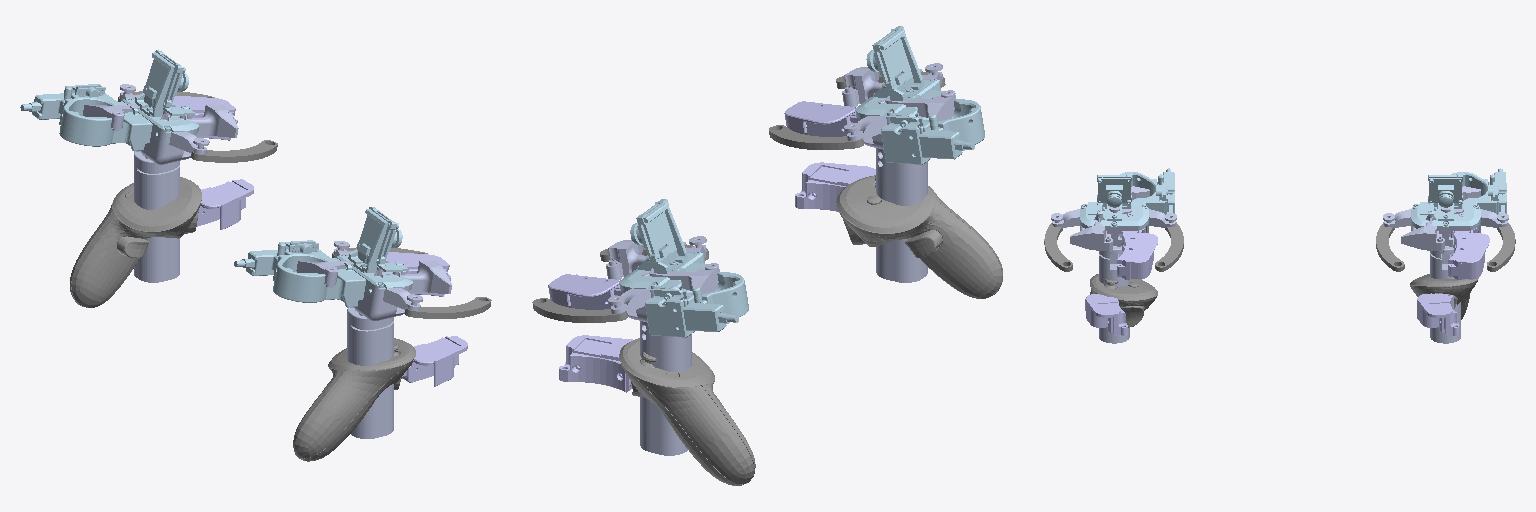
robot.urdf — yubi_hands:
<?xml version="1.0" encoding="utf-8"?>
<!-- Generated by tools/compose_yubi_urdf.py from the two assets/yubi_description/source/*.urdf CAD exports. -->
<robot name="yubi_hands">
  <link name="quest_origin" />
  <link name="left_hand_root">
    <visual>
      <origin xyz="0 0 0" rpy="0 0 0" />
      <geometry>
        <mesh filename="package://yubi_description/meshes/shared/link_base_link.stl" />
      </geometry>
      <material name="left_link_base_link_material">
        <color rgba="0.792157 0.819608 0.933333 1" />
      </material>
    </visual>
    <collision>
      <origin xyz="0 0 0" rpy="0 0 0" />
      <geometry>
        <mesh filename="package://yubi_description/meshes/shared/link_base_link.stl" />
      </geometry>
    </collision>
  </link>
  <joint name="left_world_to_base_link" type="fixed">
    <origin xyz="0.014368 0 0.05331" rpy="-0 0.174533 -0" />
    <parent link="left_hand_root" />
    <child link="left_base_link" />
  </joint>
  <link name="left_base_link">
    <visual>
      <origin xyz="-0.00489182287976 -9.2877811532e-05 -0.0550079925692" rpy="-4.09364105028e-08 -0.174533999999 4.67899763466e-07" />
      <geometry>
        <mesh filename="package://yubi_description/meshes/left/link_housing.stl" />
      </geometry>
      <material name="left_link_housing_left_material">
        <color rgba="0.768627 0.886275 0.952941 1" />
      </material>
    </visual>
    <collision>
      <origin xyz="-0.00489182287976 -9.2877811532e-05 -0.0550079925692" rpy="-4.09364105028e-08 -0.174533999999 4.67899763466e-07" />
      <geometry>
        <mesh filename="package://yubi_description/meshes/left/link_housing.stl" />
      </geometry>
    </collision>
  </link>
  <link name="left_hand_cam_optical" data-frame-convention="camera_optical">
    <origin xyz="0 0 0" rpy="0 -0 0" />
  </link>
  <joint name="left_camera_link_frame" type="fixed">
    <origin xyz="-0.00952825 -0 0.0362439" rpy="-1.74533 0 -1.5708" />
    <parent link="left_base_link" />
    <child link="left_hand_cam_optical" />
  </joint>
  <link name="left_controller_link">
    <visual>
      <origin xyz="-0.0550120355323 -0.0524684289364 -0.0970271566536" rpy="-0.568193614685 0.37859209157 -0.847210818445" />
      <geometry>
        <mesh filename="package://yubi_description/meshes/left/link_controller.stl" />
      </geometry>
      <material name="left_link_controller_left_material">
        <color rgba="0.627451 0.627451 0.627451 1" />
      </material>
    </visual>
    <collision>
      <origin xyz="-0.0550120355323 -0.0524684289364 -0.0970271566536" rpy="-0.568193614685 0.37859209157 -0.847210818445" />
      <geometry>
        <mesh filename="package://yubi_description/meshes/left/link_controller.stl" />
      </geometry>
    </collision>
  </link>
  <joint name="left_controller" type="fixed">
    <origin rpy="0 -0.7853981633974483 0.7853981633974483" xyz="-0.063 0.016 0.0525" />
    <parent link="left_base_link" />
    <child link="left_controller_link" />
  </joint>
  <link name="left_link_right_finger">
    <visual>
      <origin xyz="0.0113326046442 0.0148306803404 -0.0669952330119" rpy="5.88492431824e-09 -0.17453338727 -0.0150921626234" />
      <geometry>
        <mesh filename="package://yubi_description/meshes/shared/link_right_finger.stl" />
      </geometry>
      <material name="left_link_right_finger_material">
        <color rgba="0.823529 0.823529 1 1" />
      </material>
    </visual>
    <collision>
      <origin xyz="0.0113326046442 0.0148306803404 -0.0669952330119" rpy="5.88492431824e-09 -0.17453338727 -0.0150921626234" />
      <geometry>
        <mesh filename="package://yubi_description/meshes/shared/link_right_finger.stl" />
      </geometry>
    </collision>
  </link>
  <link name="left_right_finger_grip">
    <origin xyz="0 0 0" rpy="0 -0 0" />
  </link>
  <joint name="left_right_finger_grip_frame" type="fixed">
    <origin xyz="0.0646994 -0.00556635 -0.01775" rpy="1e-12 0 0" />
    <parent link="left_link_right_finger" />
    <child link="left_right_finger_grip" />
  </joint>
  <link name="left_right_nail">
    <origin xyz="0 0 0" rpy="0 -0 0" />
    <visual>
      <origin xyz="-0.0677906209271 0.0479170928351 0.00929985429325" rpy="-4.79711208805e-07 2.86391720998e-08 1.6466237384" />
      <geometry>
        <mesh filename="package://yubi_description/meshes/shared/link_right_nail.stl" />
      </geometry>
      <material name="left_link_right_nail_material">
        <color rgba="0.792157 0.819608 0.933333 1" />
      </material>
    </visual>
    <collision>
      <origin xyz="-0.0677906209271 0.0479170928351 0.00929985429325" rpy="-4.79711208805e-07 2.86391720998e-08 1.6466237384" />
      <geometry>
        <mesh filename="package://yubi_description/meshes/shared/link_right_nail.stl" />
      </geometry>
    </collision>
  </link>
  <joint name="left_right_nail" type="revolute">
    <origin xyz="0.0671849851405 0.00763956789707 0.00209999225656" rpy="-2.30027455417e-12 -9.37143695978e-11 0" />
    <parent link="left_link_connector_right" />
    <child link="left_right_nail" />
    <axis xyz="0 0 1" />
    <limit effort="10" velocity="10" lower="-3.141592653589793" upper="3.141592653589793" />
    <mimic joint="left_left_finger" multiplier="1" offset="0" />
  </joint>
  <joint name="left_right_finger" type="revolute">
    <origin xyz="-0.01600004037 -0.01500001935 0.01200007658" rpy="0 0 0.0349065753" />
    <parent link="left_base_link" />
    <child link="left_link_right_finger" />
    <axis xyz="0 0 1" />
    <limit effort="10" velocity="10" lower="-0.785398" upper="0" />
    <mimic joint="left_left_finger" multiplier="-1" offset="0" />
  </joint>
  <link name="left_link_left_finger">
    <visual>
      <origin xyz="0.0113084521027 -0.0148491221103 -0.066995230193" rpy="1.62436999413e-09 -0.174533494391 0.0134716603278" />
      <geometry>
        <mesh filename="package://yubi_description/meshes/shared/link_left_finger.stl" />
      </geometry>
      <material name="left_link_left_finger_material">
        <color rgba="0.823529 0.823529 1 1" />
      </material>
    </visual>
    <collision>
      <origin xyz="0.0113084521027 -0.0148491221103 -0.066995230193" rpy="1.62436999413e-09 -0.174533494391 0.0134716603278" />
      <geometry>
        <mesh filename="package://yubi_description/meshes/shared/link_left_finger.stl" />
      </geometry>
    </collision>
  </link>
  <link name="left_left_finger_grip">
    <origin xyz="0 0 0" rpy="0 -0 0" />
  </link>
  <joint name="left_left_finger_grip_frame" type="fixed">
    <origin xyz="0.0647084 0.00546061 -0.01775" rpy="-1e-12 0 -0" />
    <parent link="left_link_left_finger" />
    <child link="left_left_finger_grip" />
  </joint>
  <link name="left_left_nail">
    <origin xyz="0 0 0" rpy="0 -0 0" />
    <visual>
      <origin xyz="-0.0681932160561 -0.0473428470456 0.0118996380551" rpy="-3.14158967815 3.13551511213e-08 -1.65506953939" />
      <geometry>
        <mesh filename="package://yubi_description/meshes/shared/link_left_nail.stl" />
      </geometry>
      <material name="left_link_left_nail_material">
        <color rgba="0.792157 0.819608 0.933333 1" />
      </material>
    </visual>
    <collision>
      <origin xyz="-0.0681932160561 -0.0473428470456 0.0118996380551" rpy="-3.14158967815 3.13551511213e-08 -1.65506953939" />
      <geometry>
        <mesh filename="package://yubi_description/meshes/shared/link_left_nail.stl" />
      </geometry>
    </collision>
  </link>
  <joint name="left_left_nail" type="revolute">
    <origin xyz="0.0670678187713 -0.00845642917701 -0.00049967119931" rpy="-1.33006886754e-12 8.45202241528e-11 0" />
    <parent link="left_link_connector_left" />
    <child link="left_left_nail" />
    <axis xyz="0 0 1" />
    <limit effort="10" velocity="10" lower="-3.141592653589793" upper="3.141592653589793" />
    <mimic joint="left_left_finger" multiplier="-1" offset="0" />
  </joint>
  <joint name="left_left_finger" type="revolute">
    <origin xyz="-0.0159999253 0.01500011285 0.01200007484" rpy="0 0 -0.0349065974" />
    <parent link="left_base_link" />
    <child link="left_link_left_finger" />
    <axis xyz="0 0 1" />
    <limit effort="10" velocity="10" lower="0" upper="0.785398" />
  </joint>
  <link name="left_gripper_tip">
    <origin xyz="0 0 0" rpy="0 -0 0" />
  </link>
  <joint name="left_gripper_tip_frame" type="fixed">
    <origin xyz="0.0875496611 0 -0.00605006867" rpy="0 0 0" />
    <parent link="left_base_link" />
    <child link="left_gripper_tip" />
  </joint>
  <link name="left_link_connector_right">
    <visual>
      <origin xyz="0.000742312681243 0.0549949759012 -0.00554514565935" rpy="-2.71742832906e-06 2.64835242635e-06 1.55713202059" />
      <geometry>
        <mesh filename="package://yubi_description/meshes/shared/link_connector.stl" />
      </geometry>
      <material name="left_link_connector_right_material">
        <color rgba="0.627451 0.627451 0.627451 1" />
      </material>
    </visual>
    <collision>
      <origin xyz="0.000742312681243 0.0549949759012 -0.00554514565935" rpy="-2.71742832906e-06 2.64835242635e-06 1.55713202059" />
      <geometry>
        <mesh filename="package://yubi_description/meshes/shared/link_connector.stl" />
      </geometry>
    </collision>
  </link>
  <joint name="left_right_connector" type="revolute">
    <origin xyz="-0.016 -0.0549975100834 -0.00379985405918" rpy="-0.00000000382026972 0.000000093109623 0.0245406753" />
    <parent link="left_base_link" />
    <child link="left_link_connector_right" />
    <axis xyz="0 0 1" />
    <limit effort="10" velocity="10" lower="-3.141592653589793" upper="3.141592653589793" />
    <mimic joint="left_left_finger" multiplier="-1" offset="0" />
  </joint>
  <link name="left_link_connector_left">
    <visual>
      <origin xyz="0.0534155864371 -0.0616933264031 -0.0055450213667" rpy="-2.12421134947e-06 -2.59765254499e-06 -1.8206246026" />
      <geometry>
        <mesh filename="package://yubi_description/meshes/shared/link_connector.stl" />
      </geometry>
      <material name="left_link_connector_left_material">
        <color rgba="0.627451 0.627451 0.627451 1" />
      </material>
    </visual>
    <collision>
      <origin xyz="0.0534155864371 -0.0616933264031 -0.0055450213667" rpy="-2.12421134947e-06 -2.59765254499e-06 -1.8206246026" />
      <geometry>
        <mesh filename="package://yubi_description/meshes/shared/link_connector.stl" />
      </geometry>
    </collision>
  </link>
  <joint name="left_left_connector" type="revolute">
    <origin xyz="-0.016 0.0550024899162 -0.00380014595406" rpy="-0.00000000537222922 -0.000000170962516 -0.0157353974" />
    <parent link="left_base_link" />
    <child link="left_link_connector_left" />
    <axis xyz="0 0 1" />
    <limit effort="10" velocity="10" lower="-3.141592653589793" upper="3.141592653589793" />
    <mimic joint="left_left_finger" multiplier="1" offset="0" />
  </joint>
  <link name="quest_left_controller" />
  <joint name="left_controller_tracking_frame" type="fixed">
    <origin xyz="0 0 0" rpy="0 0 -1.5707963267948966" />
    <parent link="left_controller_link" />
    <child link="quest_left_controller" />
  </joint>
  <link name="right_hand_root">
    <visual>
      <origin xyz="0 0 0" rpy="0 0 0" />
      <geometry>
        <mesh filename="package://yubi_description/meshes/shared/link_base_link.stl" />
      </geometry>
      <material name="right_link_base_link_material">
        <color rgba="0.792157 0.819608 0.933333 1" />
      </material>
    </visual>
    <collision>
      <origin xyz="0 0 0" rpy="0 0 0" />
      <geometry>
        <mesh filename="package://yubi_description/meshes/shared/link_base_link.stl" />
      </geometry>
    </collision>
  </link>
  <joint name="right_world_to_base_link" type="fixed">
    <origin xyz="0.014368 0 0.05331" rpy="-0 0.174533 -0" />
    <parent link="right_hand_root" />
    <child link="right_base_link" />
  </joint>
  <link name="right_base_link">
    <visual>
      <origin xyz="-0.00489252905942 -2.58e-10 -0.0549950786074" rpy="0 -0.174533 0" />
      <geometry>
        <mesh filename="package://yubi_description/meshes/right/link_housing.stl" />
      </geometry>
      <material name="right_link_housing_material">
        <color rgba="0.768627 0.886275 0.952941 1" />
      </material>
    </visual>
    <collision>
      <origin xyz="-0.00489252905942 -2.58e-10 -0.0549950786074" rpy="0 -0.174533 0" />
      <geometry>
        <mesh filename="package://yubi_description/meshes/right/link_housing.stl" />
      </geometry>
    </collision>
  </link>
  <link name="right_hand_cam_optical" data-frame-convention="camera_optical">
    <origin xyz="0 0 0" rpy="0 -0 0" />
  </link>
  <joint name="right_camera_link_frame" type="fixed">
    <origin xyz="-0.00952825 -0 0.0362439" rpy="-1.74533 0 -1.5708" />
    <parent link="right_base_link" />
    <child link="right_hand_cam_optical" />
  </joint>
  <link name="right_controller_link">
    <visual>
      <origin xyz="-0.0549569723485 0.0524019218098 -0.0970644383284" rpy="0.568188752244 0.378595907821 0.847209394003" />
      <geometry>
        <mesh filename="package://yubi_description/meshes/right/link_controller.stl" />
      </geometry>
      <material name="right_link_controller_right_material">
        <color rgba="0.627451 0.627451 0.627451 1" />
      </material>
    </visual>
    <collision>
      <origin xyz="-0.0549569723485 0.0524019218098 -0.0970644383284" rpy="0.568188752244 0.378595907821 0.847209394003" />
      <geometry>
        <mesh filename="package://yubi_description/meshes/right/link_controller.stl" />
      </geometry>
    </collision>
  </link>
  <joint name="right_controller" type="fixed">
    <origin rpy="0 -0.7853981633974483 -0.7853981633974483" xyz="-0.063 -0.016 0.0525" />
    <parent link="right_base_link" />
    <child link="right_controller_link" />
  </joint>
  <link name="right_link_right_finger">
    <visual>
      <origin xyz="0.0113326046442 0.0148306803404 -0.0669952330119" rpy="5.88492431824e-09 -0.17453338727 -0.0150921626234" />
      <geometry>
        <mesh filename="package://yubi_description/meshes/shared/link_right_finger.stl" />
      </geometry>
      <material name="right_link_right_finger_material">
        <color rgba="0.823529 0.823529 1 1" />
      </material>
    </visual>
    <collision>
      <origin xyz="0.0113326046442 0.0148306803404 -0.0669952330119" rpy="5.88492431824e-09 -0.17453338727 -0.0150921626234" />
      <geometry>
        <mesh filename="package://yubi_description/meshes/shared/link_right_finger.stl" />
      </geometry>
    </collision>
  </link>
  <link name="right_right_finger_grip">
    <origin xyz="0 0 0" rpy="0 -0 0" />
  </link>
  <joint name="right_right_finger_grip_frame" type="fixed">
    <origin xyz="0.0646994 -0.00556635 -0.01775" rpy="1e-12 0 0" />
    <parent link="right_link_right_finger" />
    <child link="right_right_finger_grip" />
  </joint>
  <link name="right_right_nail">
    <origin xyz="0 0 0" rpy="0 -0 0" />
    <visual>
      <origin xyz="-0.0677906209271 0.0479170928351 0.00929985429325" rpy="-4.79711208805e-07 2.86391720998e-08 1.6466237384" />
      <geometry>
        <mesh filename="package://yubi_description/meshes/shared/link_right_nail.stl" />
      </geometry>
      <material name="right_link_right_nail_material">
        <color rgba="0.792157 0.819608 0.933333 1" />
      </material>
    </visual>
    <collision>
      <origin xyz="-0.0677906209271 0.0479170928351 0.00929985429325" rpy="-4.79711208805e-07 2.86391720998e-08 1.6466237384" />
      <geometry>
        <mesh filename="package://yubi_description/meshes/shared/link_right_nail.stl" />
      </geometry>
    </collision>
  </link>
  <joint name="right_right_nail" type="revolute">
    <origin xyz="0.0671849851405 0.00763956789707 0.00209999225656" rpy="-2.30027455417e-12 -9.37143695978e-11 0" />
    <parent link="right_link_connector_right" />
    <child link="right_right_nail" />
    <axis xyz="0 0 1" />
    <limit effort="10" velocity="10" lower="-3.141592653589793" upper="3.141592653589793" />
    <mimic joint="right_left_finger" multiplier="1" offset="0" />
  </joint>
  <joint name="right_right_finger" type="revolute">
    <origin xyz="-0.01600004037 -0.01500001935 0.01200007658" rpy="0 0 0.0349065753" />
    <parent link="right_base_link" />
    <child link="right_link_right_finger" />
    <axis xyz="0 0 1" />
    <limit effort="10" velocity="10" lower="-0.785398" upper="0" />
    <mimic joint="right_left_finger" multiplier="-1" offset="0" />
  </joint>
  <link name="right_link_left_finger">
    <visual>
      <origin xyz="0.0113084521027 -0.0148491221103 -0.066995230193" rpy="1.62436999413e-09 -0.174533494391 0.0134716603278" />
      <geometry>
        <mesh filename="package://yubi_description/meshes/shared/link_left_finger.stl" />
      </geometry>
      <material name="right_link_left_finger_material">
        <color rgba="0.823529 0.823529 1 1" />
      </material>
    </visual>
    <collision>
      <origin xyz="0.0113084521027 -0.0148491221103 -0.066995230193" rpy="1.62436999413e-09 -0.174533494391 0.0134716603278" />
      <geometry>
        <mesh filename="package://yubi_description/meshes/shared/link_left_finger.stl" />
      </geometry>
    </collision>
  </link>
  <link name="right_left_finger_grip">
    <origin xyz="0 0 0" rpy="0 -0 0" />
  </link>
  <joint name="right_left_finger_grip_frame" type="fixed">
    <origin xyz="0.0647084 0.00546061 -0.01775" rpy="-1e-12 0 -0" />
    <parent link="right_link_left_finger" />
    <child link="right_left_finger_grip" />
  </joint>
  <link name="right_left_nail">
    <origin xyz="0 0 0" rpy="0 -0 0" />
    <visual>
      <origin xyz="-0.0681932160561 -0.0473428470456 0.0118996380551" rpy="-3.14158967815 3.13551511213e-08 -1.65506953939" />
      <geometry>
        <mesh filename="package://yubi_description/meshes/shared/link_left_nail.stl" />
      </geometry>
      <material name="right_link_left_nail_material">
        <color rgba="0.792157 0.819608 0.933333 1" />
      </material>
    </visual>
    <collision>
      <origin xyz="-0.0681932160561 -0.0473428470456 0.0118996380551" rpy="-3.14158967815 3.13551511213e-08 -1.65506953939" />
      <geometry>
        <mesh filename="package://yubi_description/meshes/shared/link_left_nail.stl" />
      </geometry>
    </collision>
  </link>
  <joint name="right_left_nail" type="revolute">
    <origin xyz="0.0670678187713 -0.00845642917701 -0.00049967119931" rpy="-1.33006886754e-12 8.45202241528e-11 0" />
    <parent link="right_link_connector_left" />
    <child link="right_left_nail" />
    <axis xyz="0 0 1" />
    <limit effort="10" velocity="10" lower="-3.141592653589793" upper="3.141592653589793" />
    <mimic joint="right_left_finger" multiplier="-1" offset="0" />
  </joint>
  <joint name="right_left_finger" type="revolute">
    <origin xyz="-0.0159999253 0.01500011285 0.01200007484" rpy="0 0 -0.0349065974" />
    <parent link="right_base_link" />
    <child link="right_link_left_finger" />
    <axis xyz="0 0 1" />
    <limit effort="10" velocity="10" lower="0" upper="0.785398" />
  </joint>
  <link name="right_gripper_tip">
    <origin xyz="0 0 0" rpy="0 -0 0" />
  </link>
  <joint name="right_gripper_tip_frame" type="fixed">
    <origin xyz="0.0875496611 0 -0.00605006867" rpy="0 0 0" />
    <parent link="right_base_link" />
    <child link="right_gripper_tip" />
  </joint>
  <link name="right_link_connector_right">
    <visual>
      <origin xyz="0.000742312681243 0.0549949759012 -0.00554514565935" rpy="-2.71742832906e-06 2.64835242635e-06 1.55713202059" />
      <geometry>
        <mesh filename="package://yubi_description/meshes/shared/link_connector.stl" />
      </geometry>
      <material name="right_link_connector_right_material">
        <color rgba="0.627451 0.627451 0.627451 1" />
      </material>
    </visual>
    <collision>
      <origin xyz="0.000742312681243 0.0549949759012 -0.00554514565935" rpy="-2.71742832906e-06 2.64835242635e-06 1.55713202059" />
      <geometry>
        <mesh filename="package://yubi_description/meshes/shared/link_connector.stl" />
      </geometry>
    </collision>
  </link>
  <joint name="right_right_connector" type="revolute">
    <origin xyz="-0.016 -0.0549975100834 -0.00379985405918" rpy="-0.00000000382026972 0.000000093109623 0.0245406753" />
    <parent link="right_base_link" />
    <child link="right_link_connector_right" />
    <axis xyz="0 0 1" />
    <limit effort="10" velocity="10" lower="-3.141592653589793" upper="3.141592653589793" />
    <mimic joint="right_left_finger" multiplier="-1" offset="0" />
  </joint>
  <link name="right_link_connector_left">
    <visual>
      <origin xyz="0.0534155864371 -0.0616933264031 -0.0055450213667" rpy="-2.12421134947e-06 -2.59765254499e-06 -1.8206246026" />
      <geometry>
        <mesh filename="package://yubi_description/meshes/shared/link_connector.stl" />
      </geometry>
      <material name="right_link_connector_left_material">
        <color rgba="0.627451 0.627451 0.627451 1" />
      </material>
    </visual>
    <collision>
      <origin xyz="0.0534155864371 -0.0616933264031 -0.0055450213667" rpy="-2.12421134947e-06 -2.59765254499e-06 -1.8206246026" />
      <geometry>
        <mesh filename="package://yubi_description/meshes/shared/link_connector.stl" />
      </geometry>
    </collision>
  </link>
  <joint name="right_left_connector" type="revolute">
    <origin xyz="-0.016 0.0550024899162 -0.00380014595406" rpy="-0.00000000537222922 -0.000000170962516 -0.0157353974" />
    <parent link="right_base_link" />
    <child link="right_link_connector_left" />
    <axis xyz="0 0 1" />
    <limit effort="10" velocity="10" lower="-3.141592653589793" upper="3.141592653589793" />
    <mimic joint="right_left_finger" multiplier="1" offset="0" />
  </joint>
  <link name="quest_right_controller" />
  <joint name="right_controller_tracking_frame" type="fixed">
    <origin xyz="0 0 0" rpy="0 0 -1.5707963267948966" />
    <parent link="right_controller_link" />
    <child link="quest_right_controller" />
  </joint>
  <joint name="quest_origin_to_left" type="floating">
    <origin xyz="0 0.16 0" rpy="0 0 0" />
    <parent link="quest_origin" />
    <child link="left_hand_root" />
  </joint>
  <joint name="quest_origin_to_right" type="floating">
    <origin xyz="0 -0.16 0" rpy="0 0 0" />
    <parent link="quest_origin" />
    <child link="right_hand_root" />
  </joint>
</robot>

--- Render facts (derived) ---
The picture shows the robot from 3 angles, left to right: view 1: azimuth 30°, elevation 25°; view 2: azimuth 150°, elevation 25°; view 3: azimuth 270°, elevation 25°; orthographic projection.
Model yubi_hands with 29 links and 28 joints (12 revolute, 14 fixed, 2 floating), rooted at quest_origin, posed all joints at 0.
Visible links, largest first — view 1: left_base_link, left_controller_link, right_base_link, right_controller_link, left_hand_root, right_hand_root, right_link_right_finger, left_link_right_finger, left_left_nail, right_left_nail, left_link_connector_right, right_link_connector_right (+4 smaller); view 2: right_controller_link, right_base_link, left_base_link, left_controller_link, right_hand_root, left_hand_root, left_link_right_finger, right_link_right_finger, right_link_left_finger, left_link_left_finger, left_link_connector_left, right_link_connector_left (+4 smaller); view 3: left_base_link, right_base_link, right_hand_root, left_hand_root, left_link_left_finger, right_controller_link, right_link_left_finger, left_link_right_finger, right_link_right_finger, left_controller_link, left_left_nail, right_left_nail (+4 smaller).
Link boxes in pixels (bbox=[...]): left_base_link: bbox=[20, 50, 198, 150]; left_controller_link: bbox=[70, 177, 201, 307]; right_base_link: bbox=[234, 207, 412, 307]; right_controller_link: bbox=[293, 338, 415, 461]; left_hand_root: bbox=[120, 84, 209, 282]; right_hand_root: bbox=[334, 241, 422, 438]; right_link_right_finger: bbox=[401, 336, 467, 386]; left_link_right_finger: bbox=[197, 179, 253, 229]; left_left_nail: bbox=[172, 104, 238, 137]; right_left_nail: bbox=[386, 261, 451, 293]; left_link_connector_right: bbox=[191, 140, 277, 162]; right_link_connector_right: bbox=[405, 297, 491, 318]; right_controller_link: bbox=[836, 175, 1002, 298]; right_base_link: bbox=[855, 26, 984, 164]; left_base_link: bbox=[619, 199, 748, 337]; left_controller_link: bbox=[619, 338, 755, 485]; right_hand_root: bbox=[844, 63, 942, 282]; left_hand_root: bbox=[608, 236, 706, 455]; left_link_right_finger: bbox=[559, 335, 632, 392]; right_link_right_finger: bbox=[795, 162, 875, 211]; right_link_left_finger: bbox=[784, 100, 884, 136]; left_link_left_finger: bbox=[548, 273, 648, 309]; left_link_connector_left: bbox=[532, 298, 627, 322]; right_link_connector_left: bbox=[769, 125, 863, 149]; left_base_link: bbox=[1411, 168, 1506, 228]; right_base_link: bbox=[1080, 168, 1174, 229]; right_hand_root: bbox=[1051, 205, 1176, 343]; left_hand_root: bbox=[1383, 206, 1508, 343]; left_link_left_finger: bbox=[1448, 214, 1489, 279]; right_controller_link: bbox=[1090, 274, 1157, 327]; right_link_left_finger: bbox=[1117, 214, 1157, 279]; left_link_right_finger: bbox=[1417, 293, 1459, 335]; right_link_right_finger: bbox=[1085, 294, 1127, 335]; left_controller_link: bbox=[1410, 274, 1478, 319]; left_left_nail: bbox=[1401, 222, 1444, 251]; right_left_nail: bbox=[1070, 222, 1112, 251].
Size in the robot's own frame: 0.1642 by 0.4546 by 0.1913 metres.
18 mesh visuals loaded from 10 distinct referenced files (9 binary STL).
